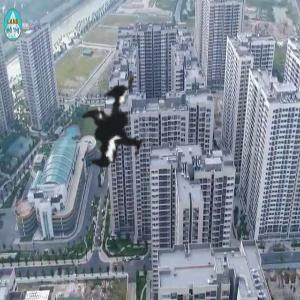drone: (22, 4, 267, 249)
